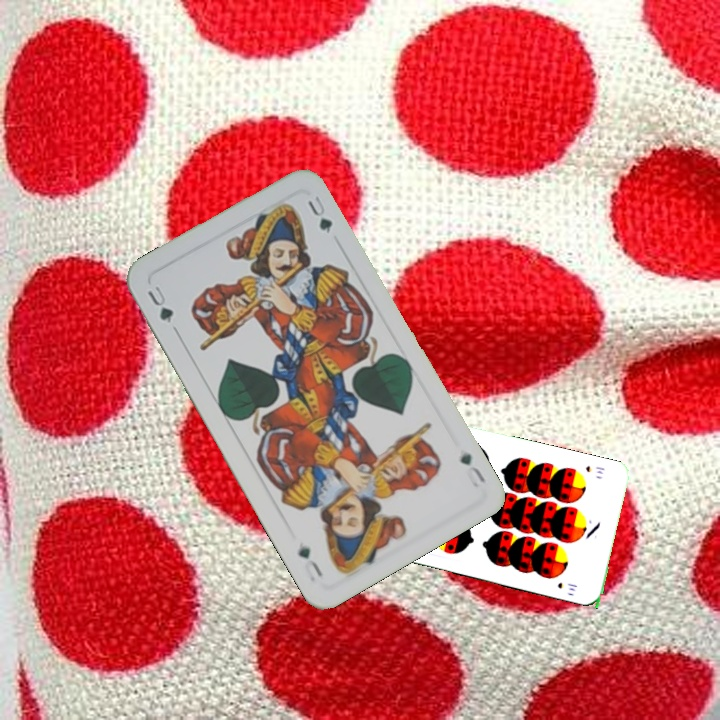GU: (143, 281, 176, 326), (456, 449, 489, 490)
S10: (581, 462, 608, 477)
